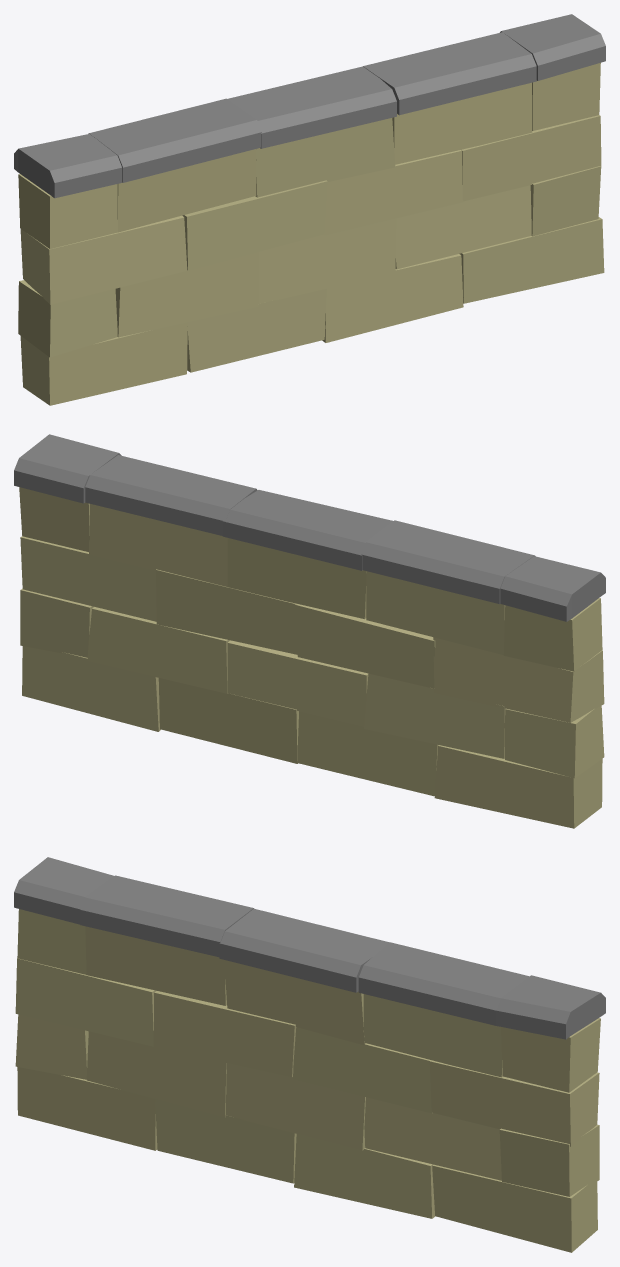
Rendered from WallTypeD.fbx.
3 views of the same model, one above another, from view 1: azimuth 30°, elevation 25°; view 2: azimuth 150°, elevation 25°; view 3: azimuth 330°, elevation 25° (orthographic).
Parts seen in each view (by area): view 1: WallTypeD; view 2: WallTypeD; view 3: WallTypeD.
Boxes of the visible parts, x1,y1,x2,y2 form: WallTypeD: (14,14,605,405); WallTypeD: (14,434,605,828); WallTypeD: (14,857,605,1252).
Size of the model in its own units: 1006 by 419 by 129.
